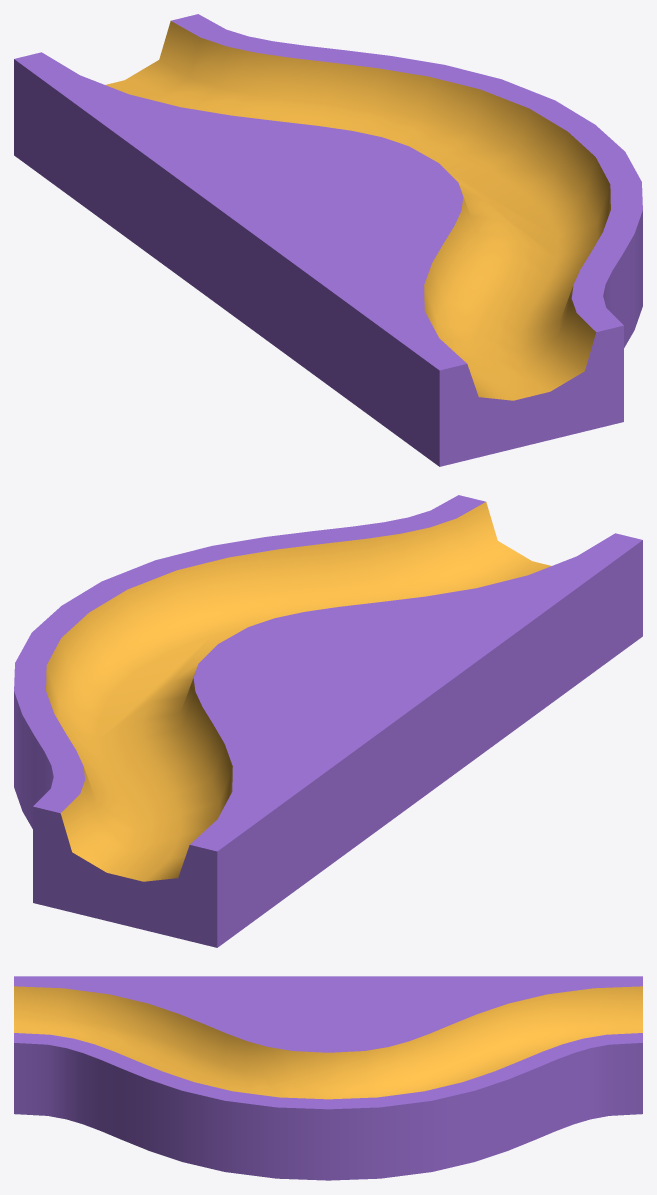
Rendered from wave-solid-c.glb.
3 views of the same model, one above another, from view 1: azimuth 30°, elevation 25°; view 2: azimuth 150°, elevation 25°; view 3: azimuth 270°, elevation 25° (orthographic). The views are drawn at different scales.
Visible parts, largest first — view 1: wave-solid-c; view 2: wave-solid-c; view 3: wave-solid-c.
Boxes of the visible parts, x1,y1,x2,y2 form: wave-solid-c: (14, 14, 642, 466); wave-solid-c: (14, 495, 642, 947); wave-solid-c: (14, 976, 642, 1180).
Size of the model in its own units: 2 by 0.5 by 4.
Materials: 1 (1 with a texture image).
